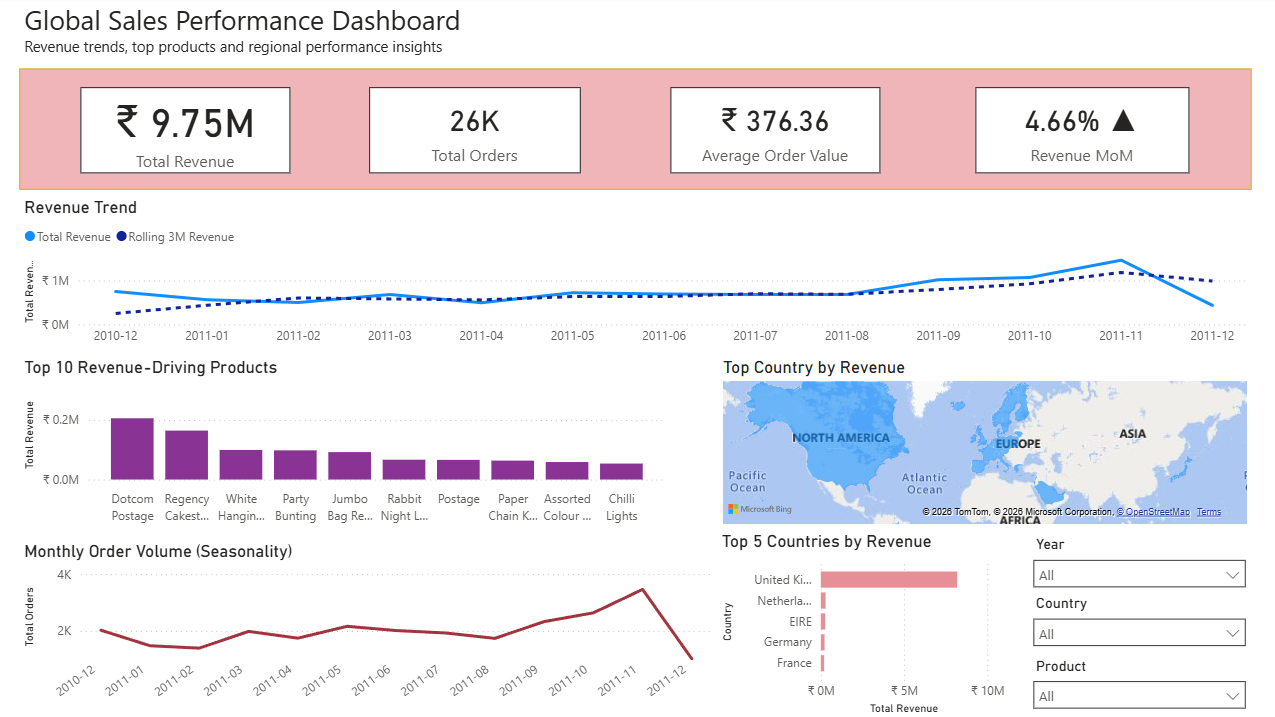

This screenshot's page, from the dashboard's own definition file:
{"tool":"powerbi","page":{"name":"Page 1","canvas":[1280,720],"ordinal":0},"visuals":[{"type":"shape","box":[26.1,72.1,1226.5,120.7],"z":0},{"type":"card","fields":{"Values":["Sale Details.Total Revenue"]},"box":[87.1,91.1,209,85.8],"z":1000},{"type":"card","fields":{"Values":["Sale Details.Total Orders"]},"box":[374.4,91.1,210.2,85.8],"z":2000},{"type":"card","fields":{"Values":["Sale Details.Average Order Value"]},"box":[674.2,91.1,209,85.8],"z":3000},{"type":"card","fields":{"Values":["Sale Details.Revenue MoM"]},"box":[977.8,91.1,212.7,85.8],"z":4000},{"type":"lineChart","title":"Revenue Trend","fields":{"Y":["Sale Details.Total Revenue","Sale Details.Rolling 3M Revenue"],"Category":["DimDate.Year-Month"]},"box":[26.1,200.3,1229,156.7],"z":5000},{"type":"clusteredColumnChart","title":"Top 10 Revenue-Driving Products","fields":{"Category":["Sale Details.Description"],"Y":["Sale Details.Total Revenue"]},"box":[26.1,359.5,648.1,172.9],"z":6000},{"type":"filledMap","title":"Top Country by Revenue","fields":{"Category":["Sale Details.Country"]},"box":[721.5,359.5,531.2,170.4],"z":7000},{"type":"lineChart","title":"Monthly Order Volume (Seasonality)","fields":{"Y":["Sale Details.Total Orders"],"Category":["DimDate.Year-Month"]},"box":[26.1,542.4,694.1,172.9],"z":8000},{"type":"slicer","fields":{"Values":["DimDate.Year"]},"box":[1025.2,532.2,231.4,58.7],"z":9000},{"type":"slicer","fields":{"Values":["Sale Details.Country"]},"box":[1025.2,590.9,231.4,64.1],"z":10000},{"type":"slicer","fields":{"Values":["Sale Details.Description"]},"box":[1025.2,653.2,231.4,58.7],"z":11000},{"type":"clusteredBarChart","title":"Top 5 Countries by Revenue","fields":{"Y":["Sale Details.Total Revenue"],"Category":["Sale Details.Country"]},"box":[719.9,532.4,291.4,187.6],"z":12000},{"type":"textbox","box":[26.1,0,706.6,69.7],"z":12001}]}

Visuals, with their boxes in screenshot pixels (x1, y1, x2, y2), scaled from the page's 1280x720 canvas onto the 1275x717 screenshot:
shape: pyautogui.locateOnScreen(26, 72, 1248, 192)
card - Sale Details.Total Revenue: pyautogui.locateOnScreen(87, 91, 295, 176)
card - Sale Details.Total Orders: pyautogui.locateOnScreen(373, 91, 582, 176)
card - Sale Details.Average Order Value: pyautogui.locateOnScreen(672, 91, 880, 176)
card - Sale Details.Revenue MoM: pyautogui.locateOnScreen(974, 91, 1186, 176)
"Revenue Trend" lineChart: pyautogui.locateOnScreen(26, 199, 1250, 356)
"Top 10 Revenue-Driving Products" clusteredColumnChart: pyautogui.locateOnScreen(26, 358, 672, 530)
"Top Country by Revenue" filledMap: pyautogui.locateOnScreen(719, 358, 1248, 528)
"Monthly Order Volume (Seasonality)" lineChart: pyautogui.locateOnScreen(26, 540, 717, 712)
slicer - DimDate.Year: pyautogui.locateOnScreen(1021, 530, 1252, 588)
slicer - Sale Details.Country: pyautogui.locateOnScreen(1021, 588, 1252, 652)
slicer - Sale Details.Description: pyautogui.locateOnScreen(1021, 650, 1252, 709)
"Top 5 Countries by Revenue" clusteredBarChart: pyautogui.locateOnScreen(717, 530, 1007, 716)
textbox: pyautogui.locateOnScreen(26, 0, 730, 69)
